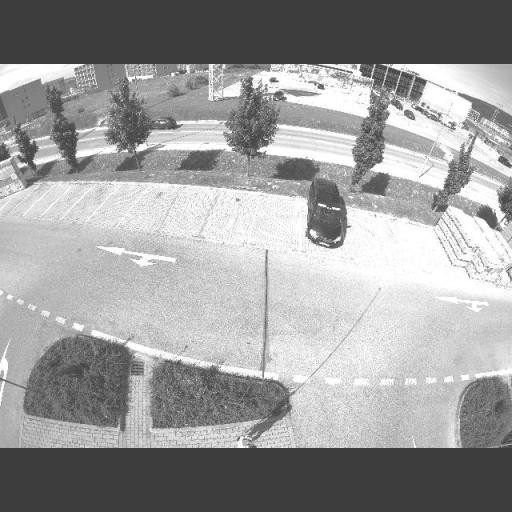busy: (302, 178, 350, 251), (149, 114, 181, 132), (270, 88, 286, 102)
free: (144, 191, 216, 230), (257, 208, 298, 240), (210, 204, 249, 233), (351, 226, 380, 254), (388, 234, 414, 258), (421, 242, 443, 268), (109, 194, 133, 208), (83, 193, 106, 207), (59, 193, 77, 205), (25, 196, 39, 207), (42, 195, 57, 205), (10, 196, 22, 207)
